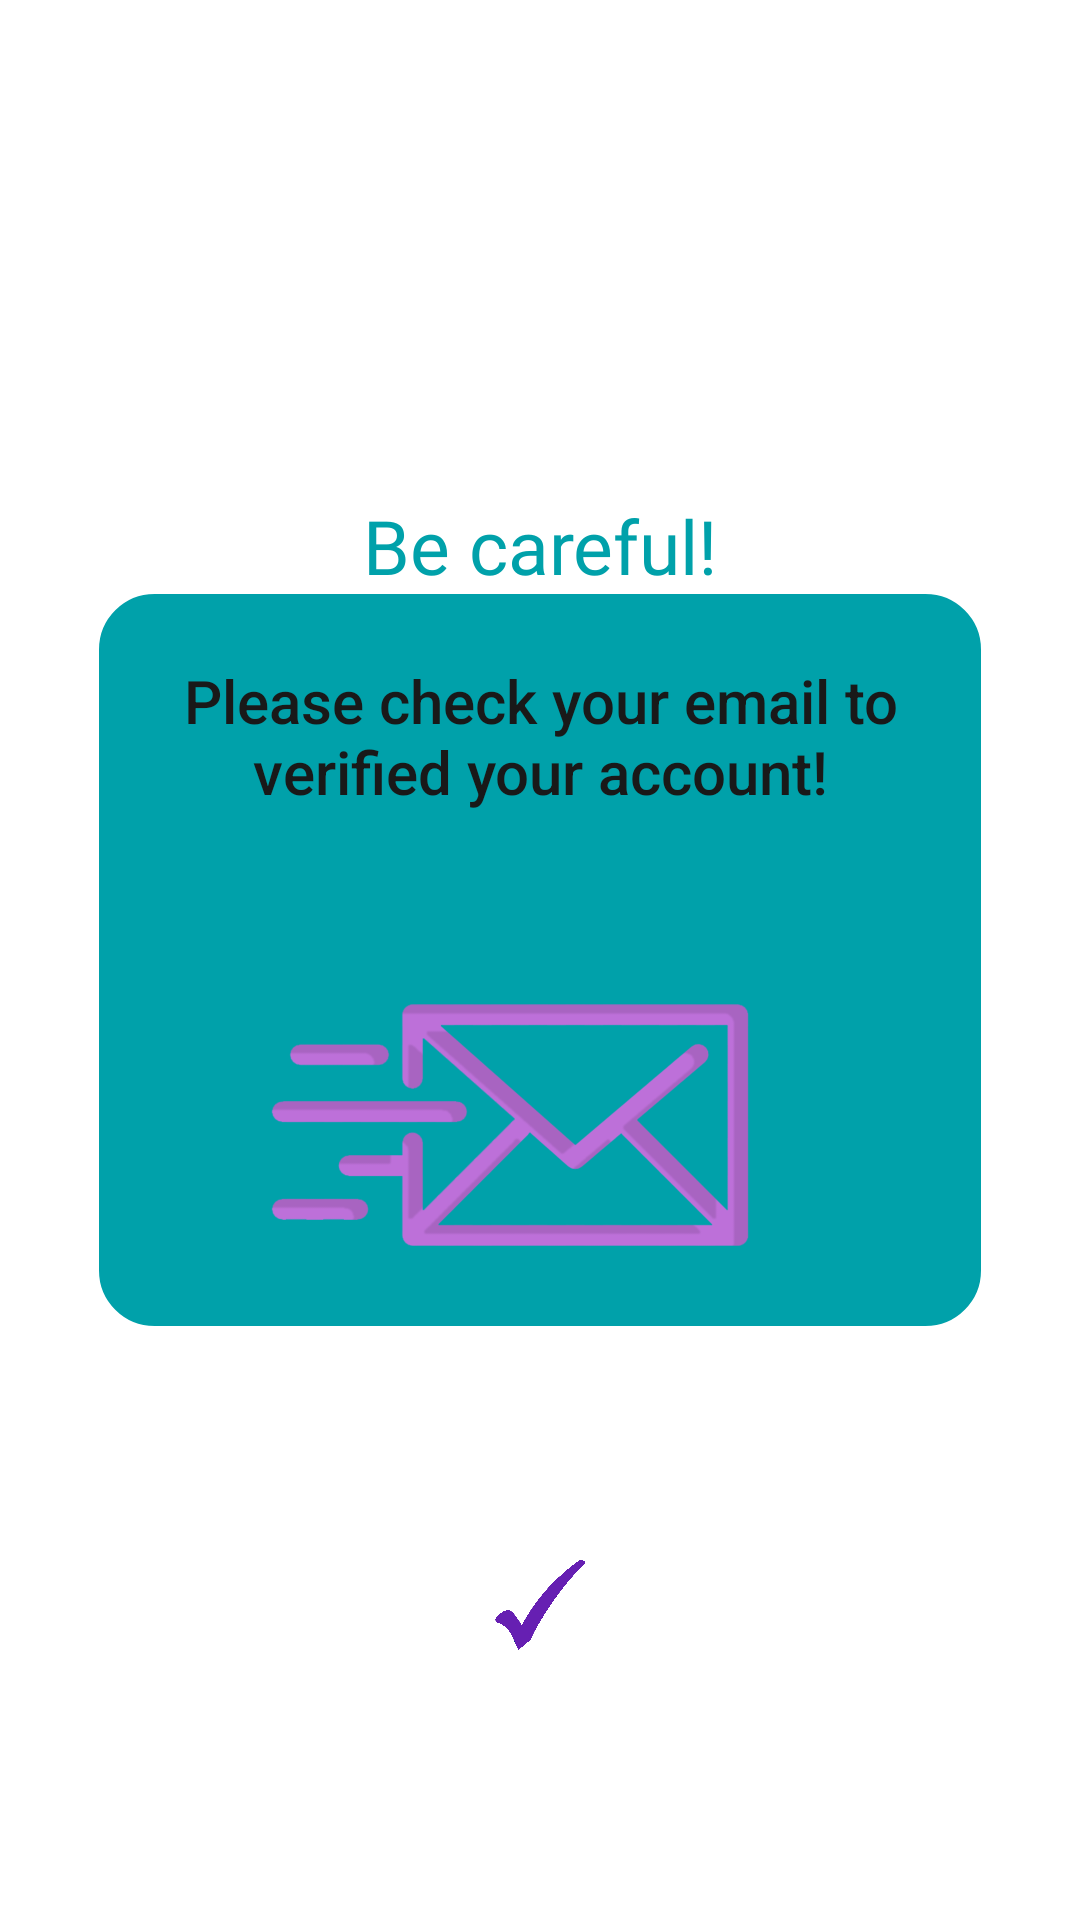

Screen size 1080×1920. Icon name, then its box in pixels as (x1, y1, x2, y2):
tick: (495, 1560, 585, 1650)
